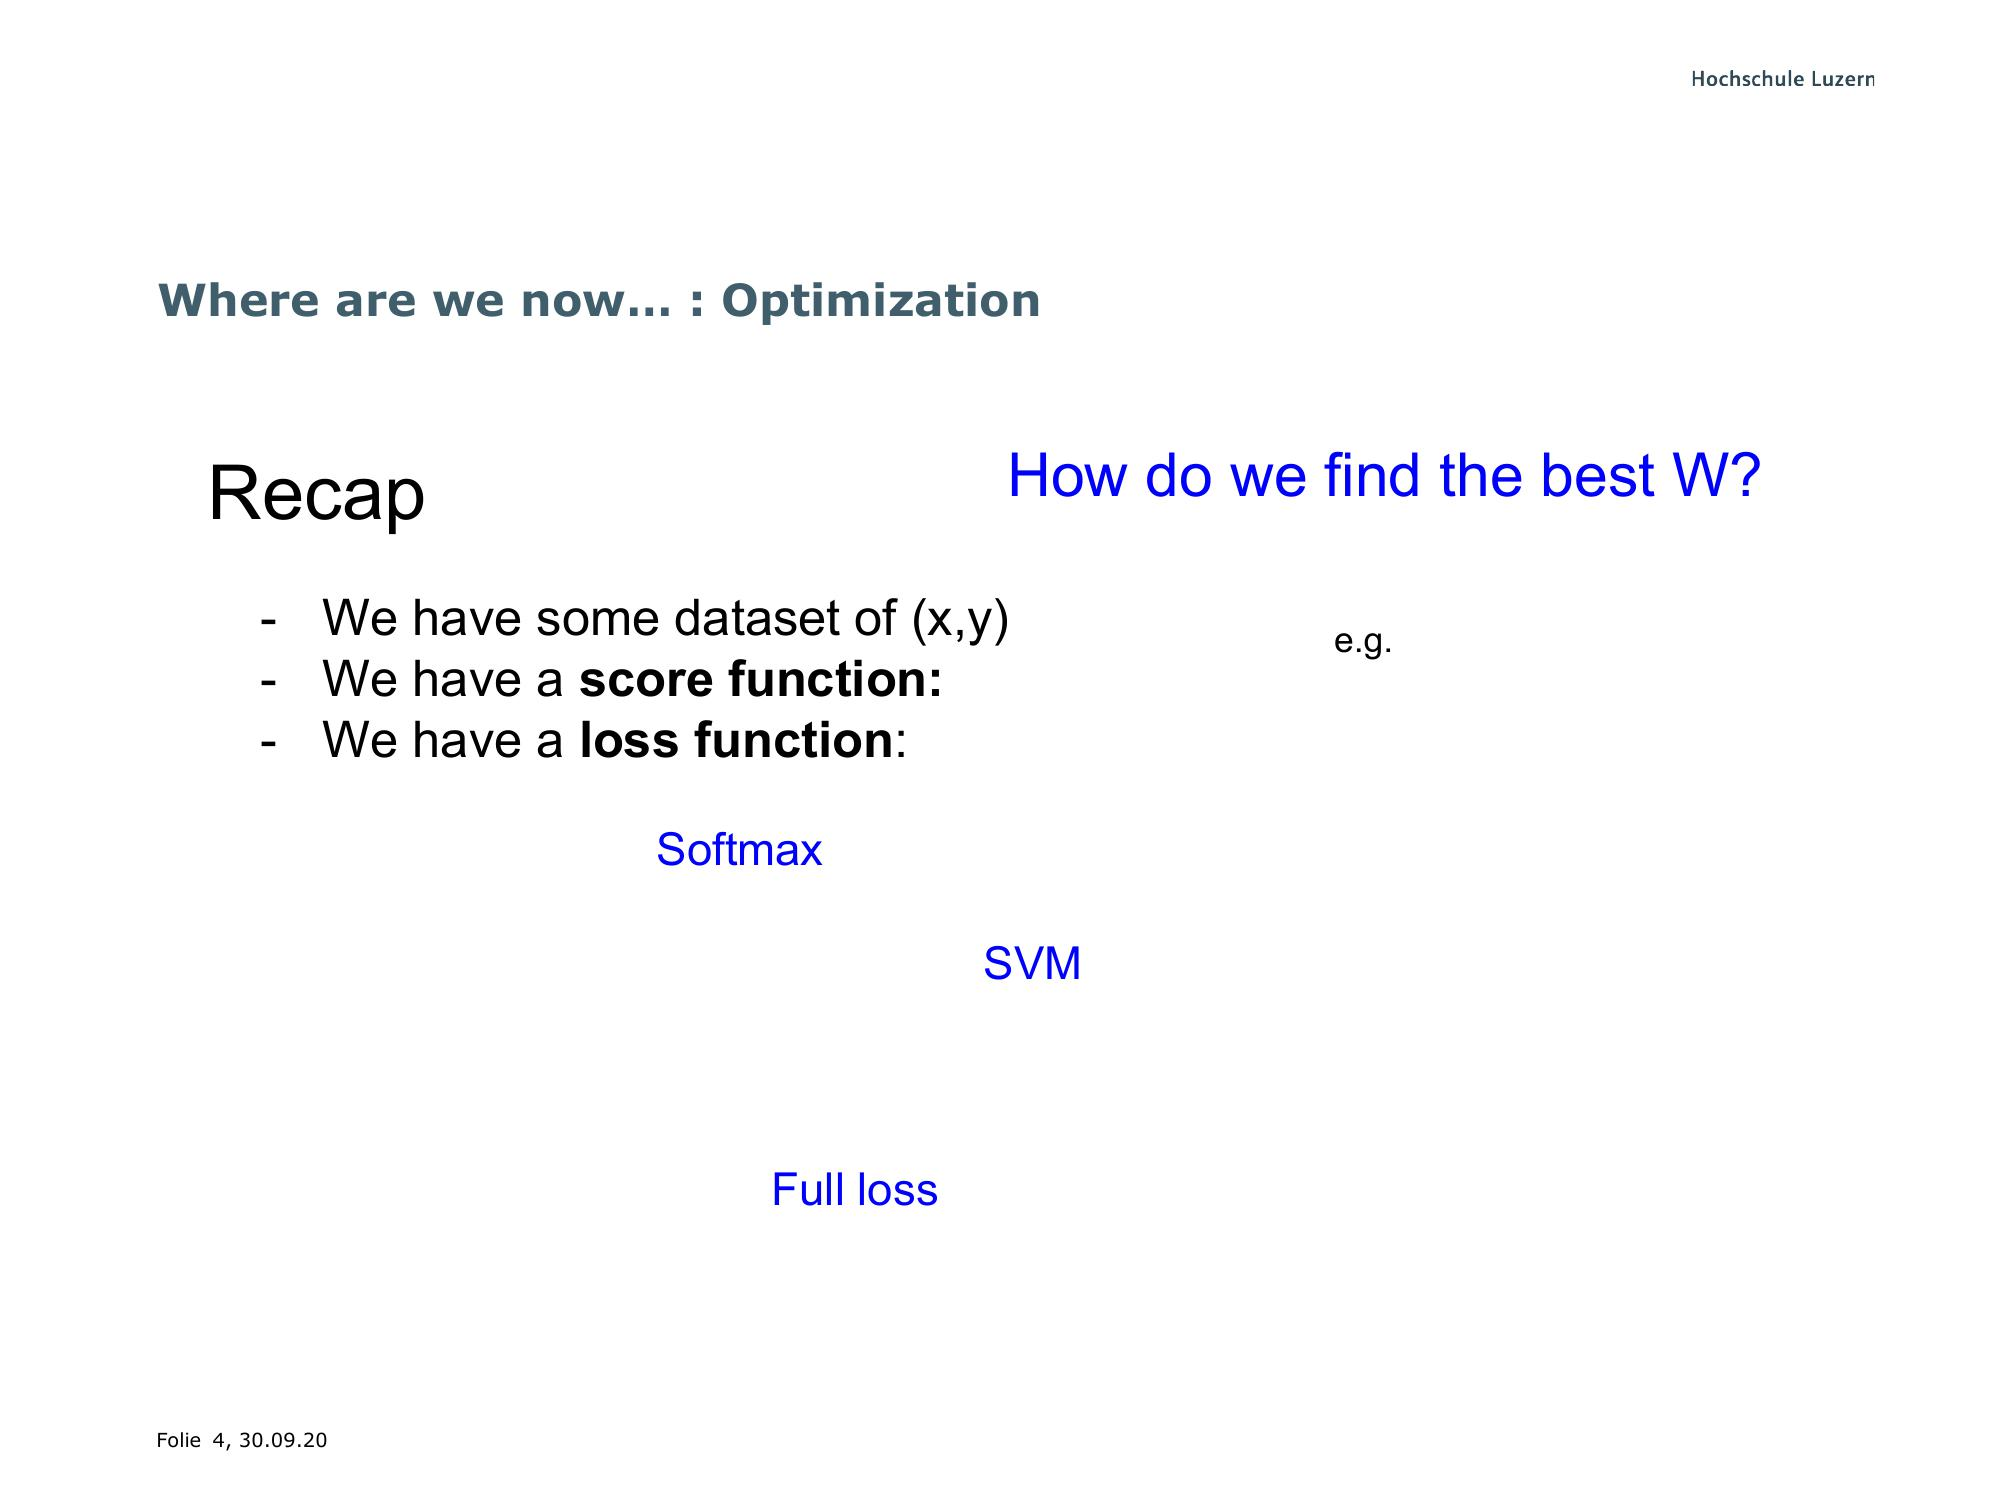Title: (139, 257, 1054, 339)
